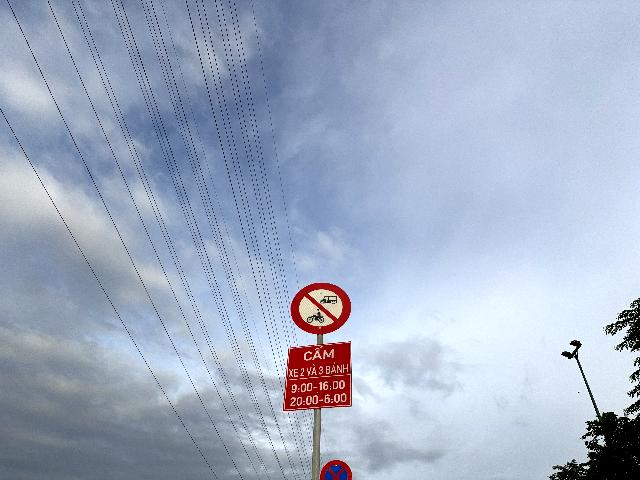cam-xe-2-banh-3-banh: (290, 282, 351, 334)
